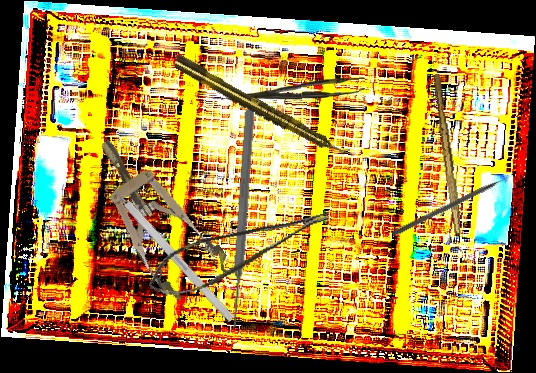Handpiece: (170, 51, 352, 164)
Hook Surgical: (100, 174, 235, 323)
Micro Scissor: (141, 205, 339, 304)
Pusher: (391, 171, 518, 238), (227, 109, 257, 329)
Scalpel Handle: (429, 73, 467, 236)
Speculum: (75, 120, 236, 311)
Tissue Forceps: (238, 77, 365, 101)
